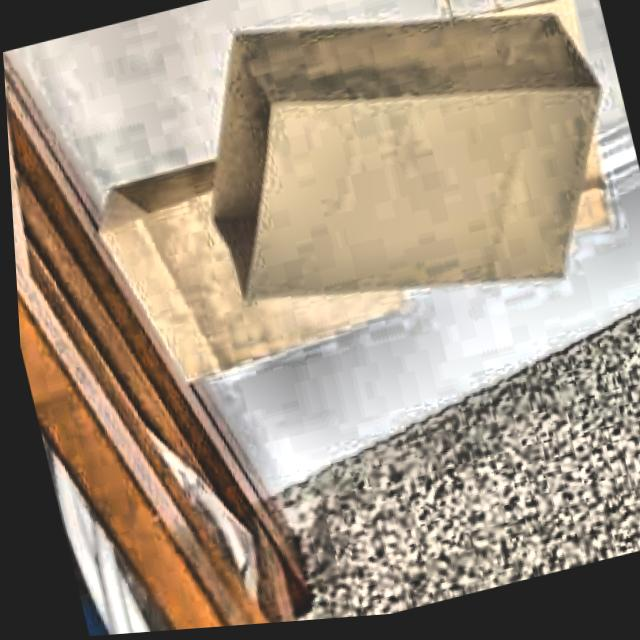Paper-bag: (146, 0, 636, 375), (78, 102, 437, 401), (348, 0, 623, 285)
